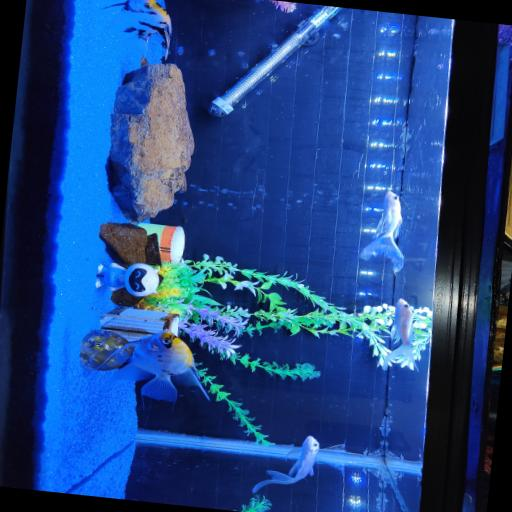Fish: (101, 329, 208, 400), (103, 0, 170, 57), (251, 435, 318, 492), (360, 190, 403, 272), (386, 298, 416, 368)
